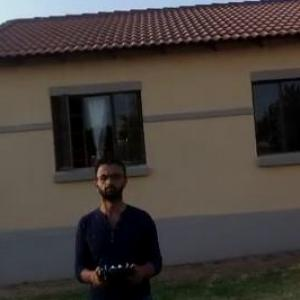follow: (69, 150, 168, 299)
